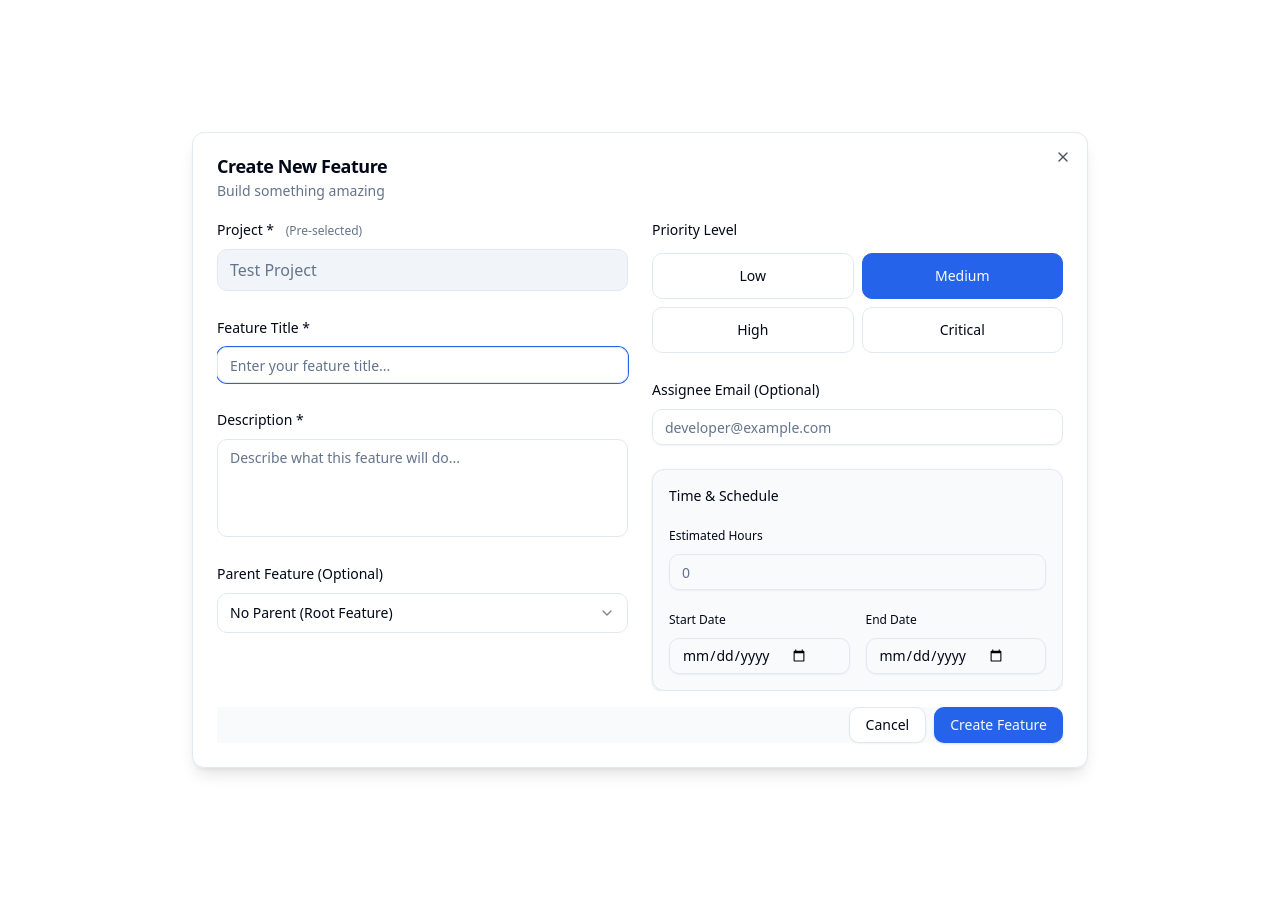
FeatureForm - Date Saving Functionality › Date validation against project boundaries › should validate end_date against project boundaries
Type "Test Feature" into the field labelled "Feature Title *" at (422, 365), box [217,347,628,383]
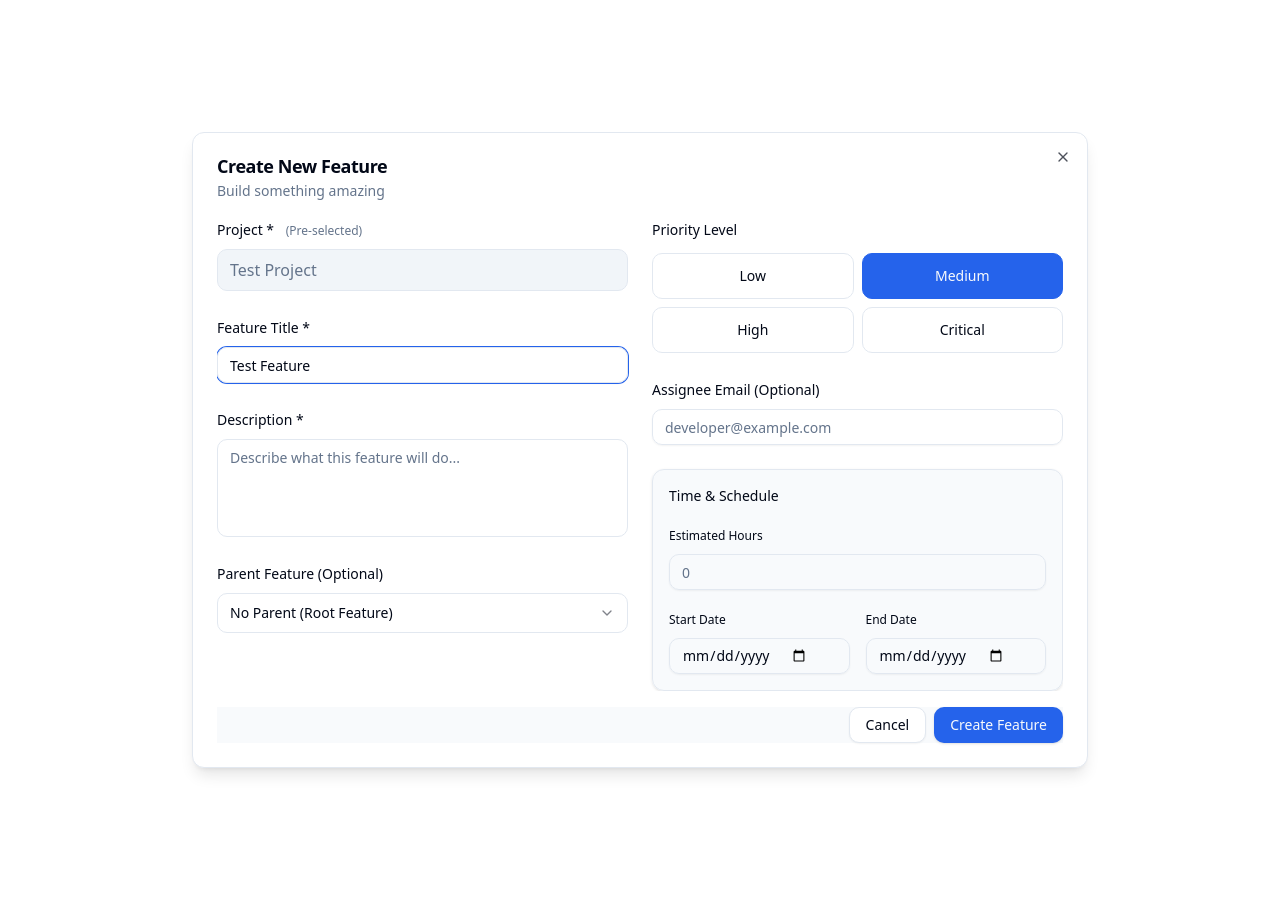
Type "Test description" into the text box labelled "Description *" at (422, 488), box [217,439,628,537]
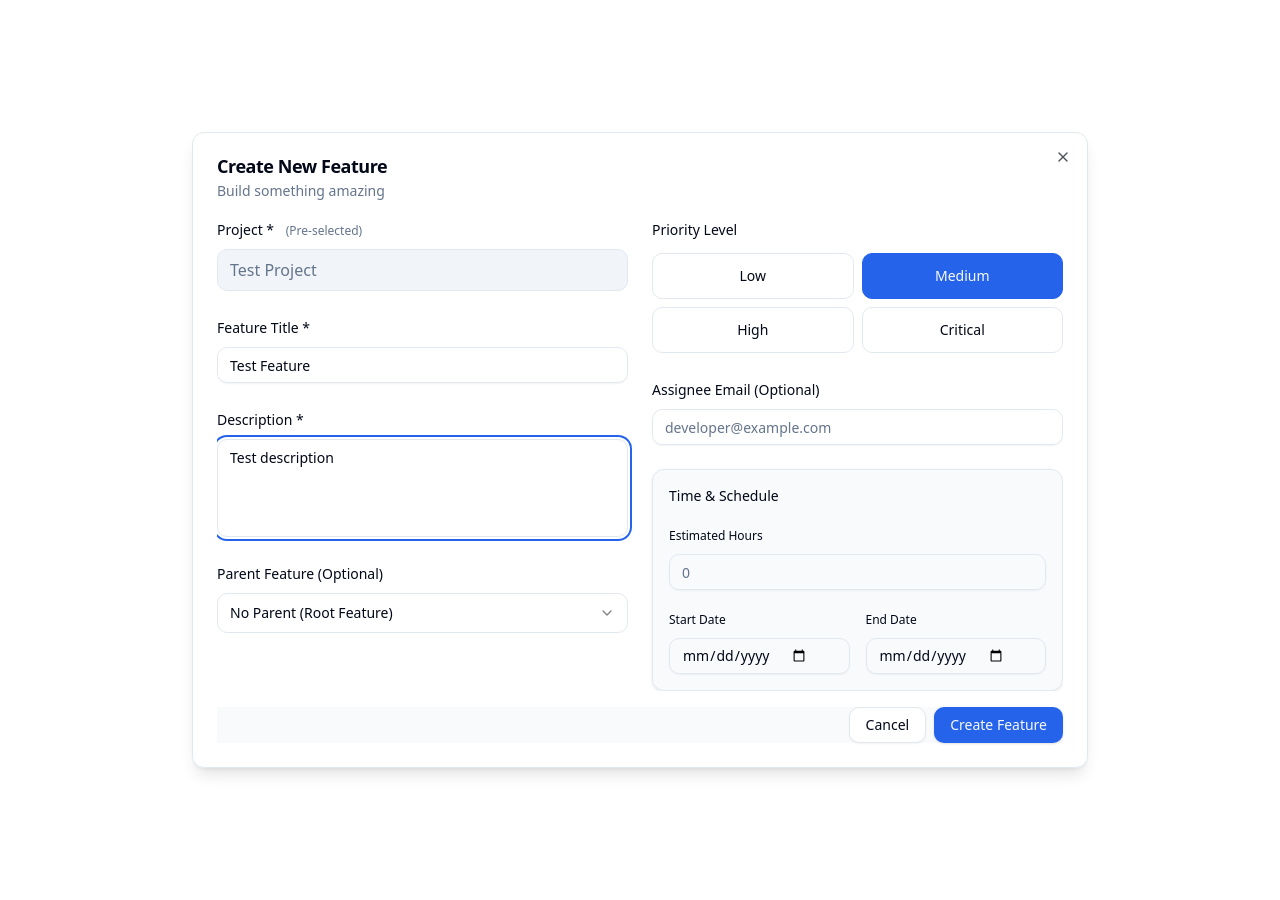
Type "2025-01-01" into the date field labelled "End Date" at (956, 656), box [866,638,1046,674]
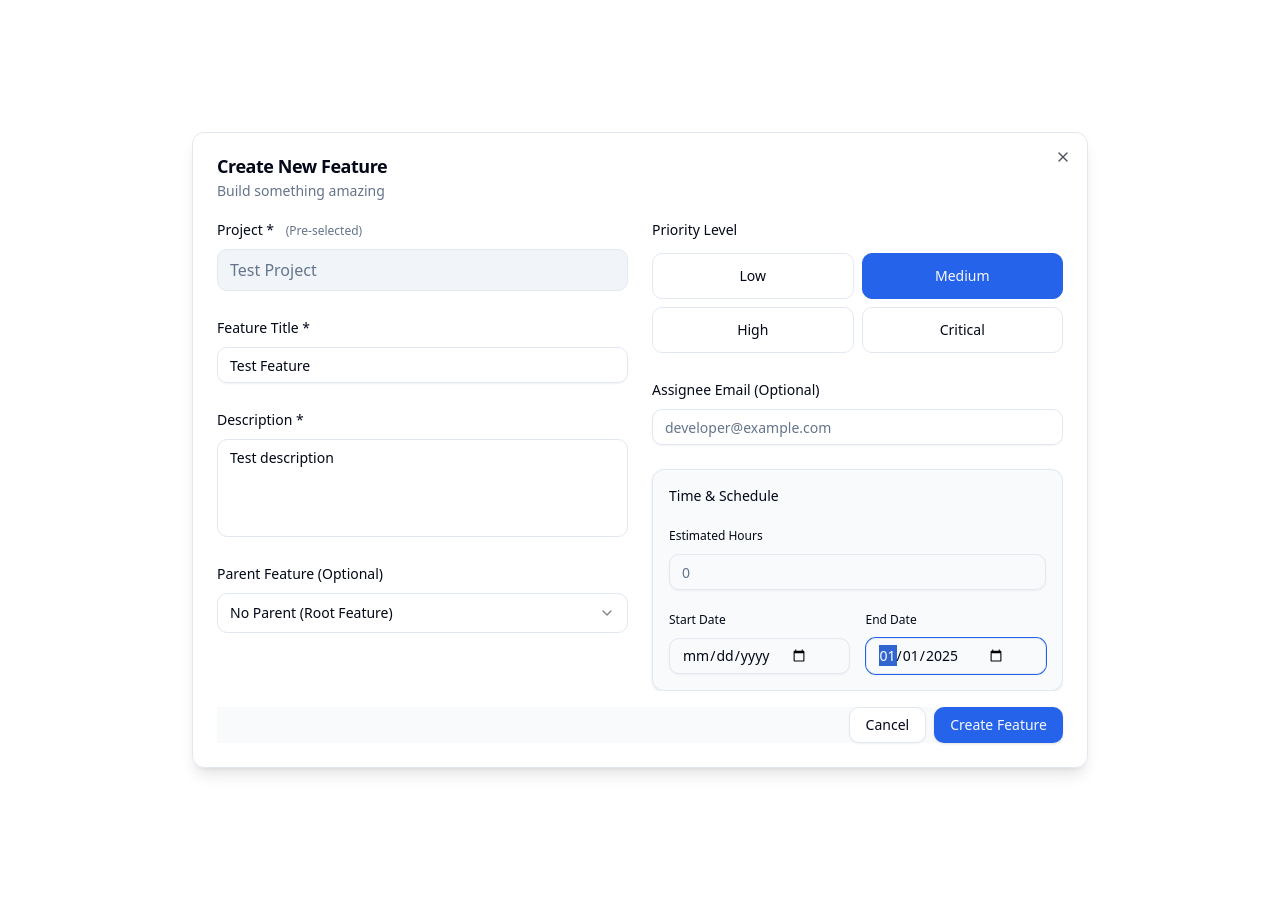
Click the button "Create Feature" at (999, 725), box [934,707,1063,743]
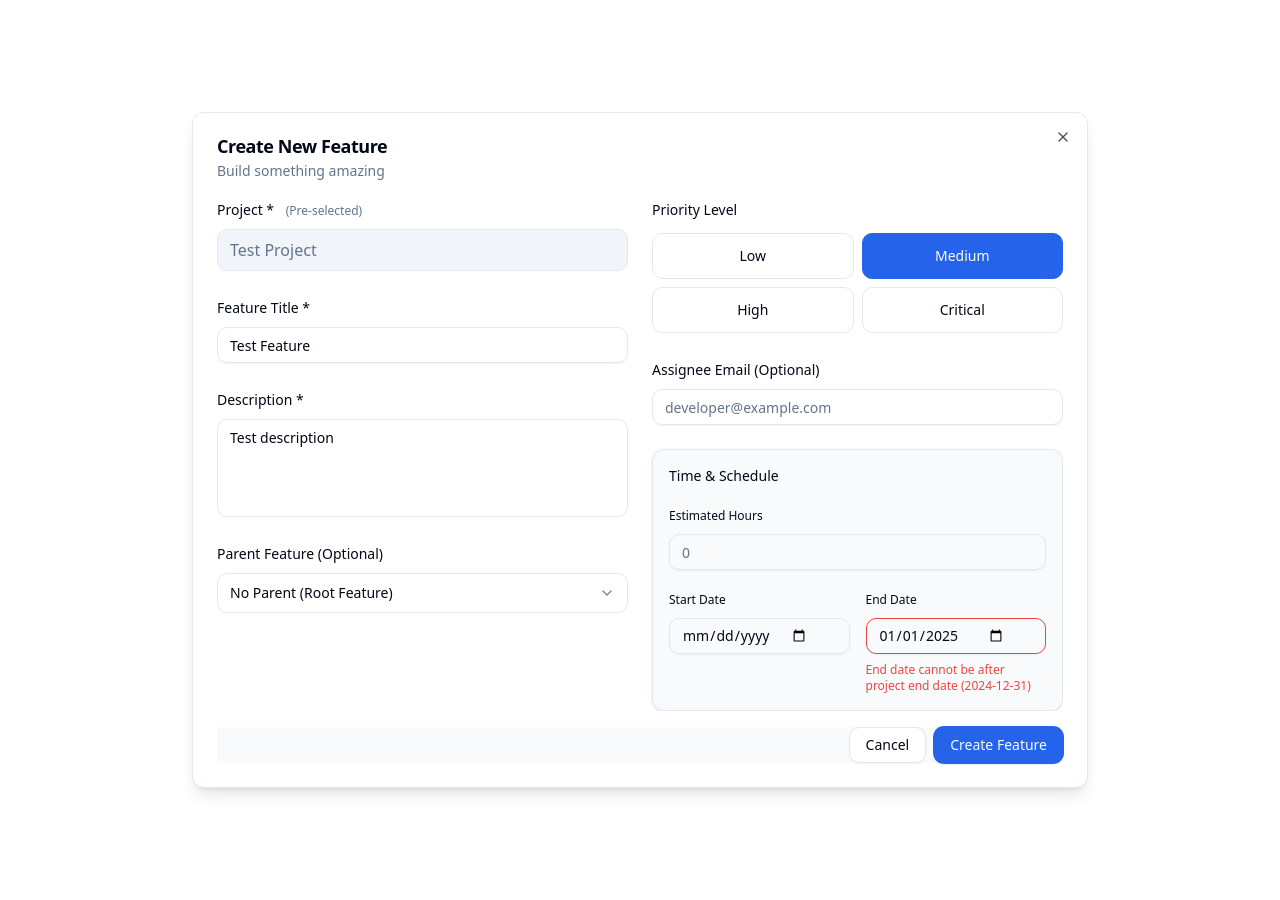
Now the text "End date cannot be after project end date (2024-12-31)" is shown, box [866,662,1046,694]
